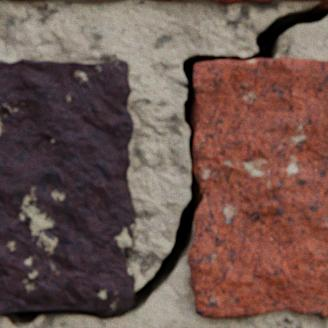brick: (187, 56, 327, 317), (0, 59, 136, 314), (205, 0, 275, 5), (8, 0, 49, 2), (282, 0, 323, 2), (149, 0, 183, 1), (87, 0, 113, 1)
crack: (0, 0, 327, 326)
